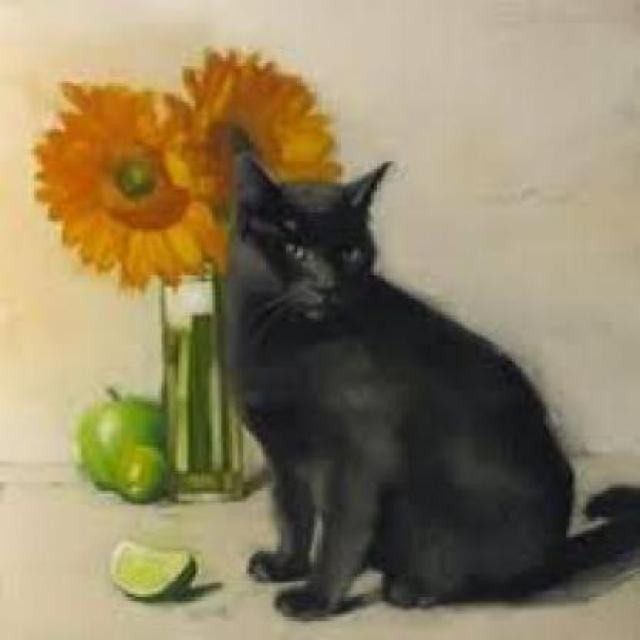animals: (206, 149, 626, 614)
